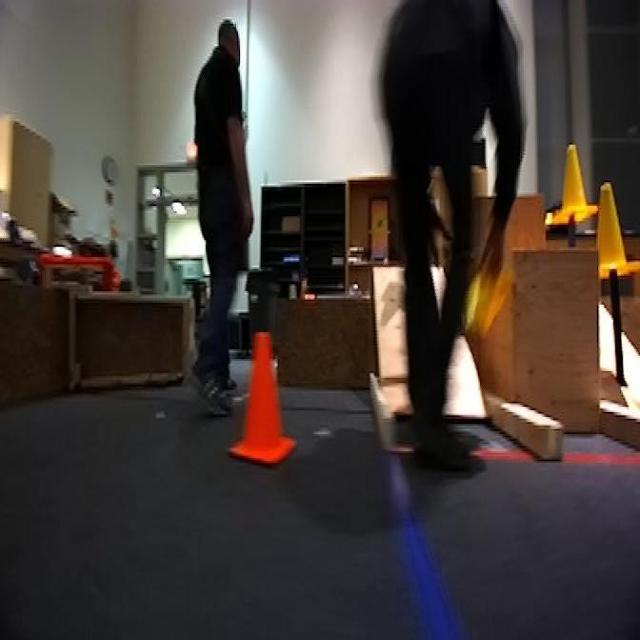frc_cone: (456, 249, 510, 337), (541, 145, 598, 228), (590, 184, 639, 277)
